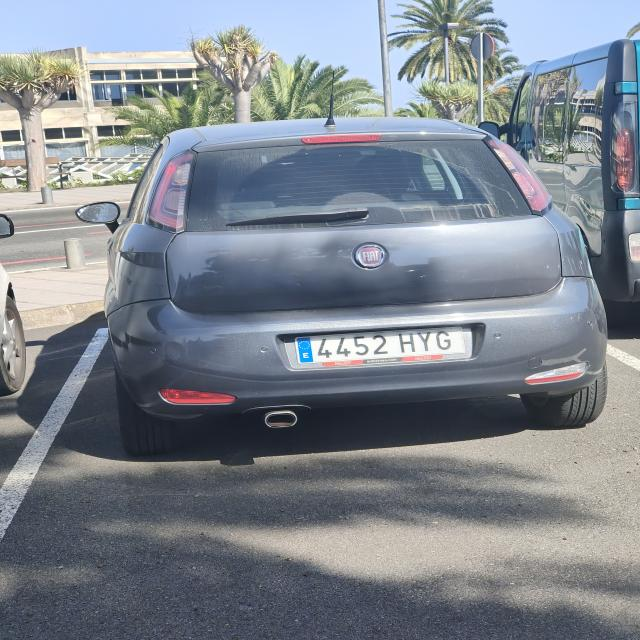License-Plate: (295, 325, 466, 365)
